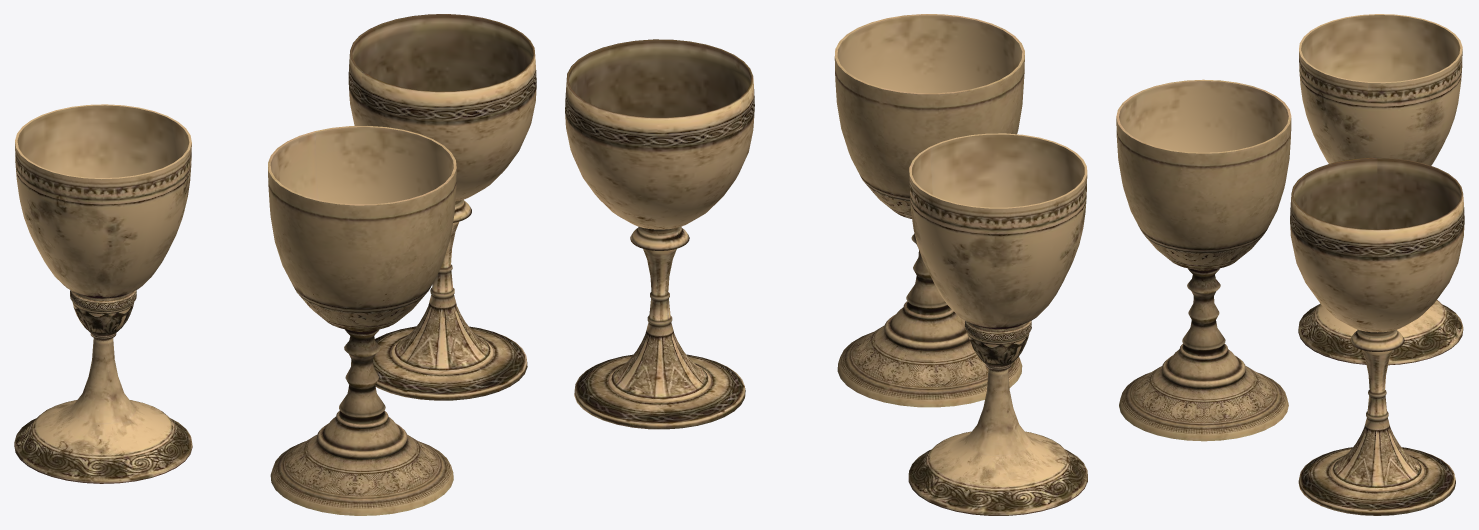
Rendered from brass_goblets.glb.
3 views of the same model, side by side, from view 1: azimuth 30°, elevation 25°; view 2: azimuth 150°, elevation 25°; view 3: azimuth 270°, elevation 25° (orthographic). The views are drawn at different scales.
Parts seen in each view (by area): view 1: brass_goblet_01, brass_goblet_02, brass_goblet_03; view 2: brass_goblet_02, brass_goblet_03, brass_goblet_01; view 3: brass_goblet_01, brass_goblet_03, brass_goblet_02.
Part boxes in pixels (x1=…): brass_goblet_01: x1=268, y1=126, x2=456, y2=515; brass_goblet_02: x1=14, y1=104, x2=192, y2=483; brass_goblet_03: x1=348, y1=14, x2=536, y2=400; brass_goblet_02: x1=908, y1=133, x2=1087, y2=515; brass_goblet_03: x1=565, y1=39, x2=754, y2=429; brass_goblet_01: x1=834, y1=14, x2=1024, y2=407; brass_goblet_01: x1=1116, y1=79, x2=1291, y2=441; brass_goblet_03: x1=1290, y1=157, x2=1464, y2=515; brass_goblet_02: x1=1298, y1=14, x2=1463, y2=365.
Bounding box in the file's own units: 0.4534 × 0.2734 × 0.2976.
3 materials, 3 textured.
